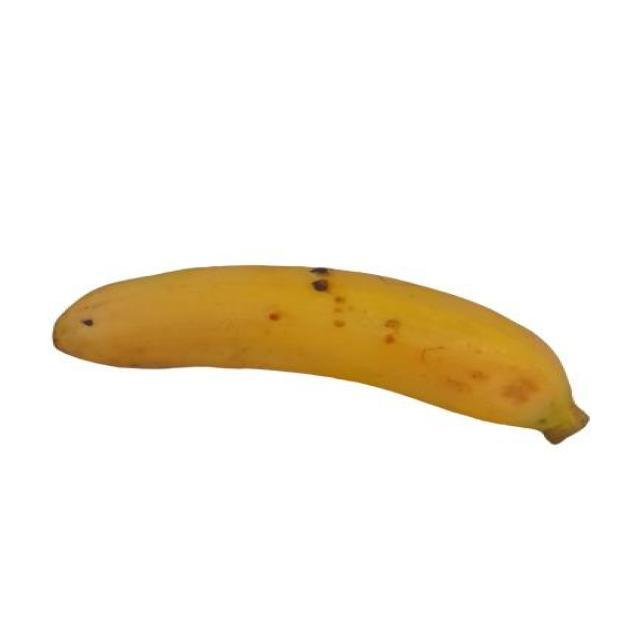banana: (46, 260, 595, 451)
